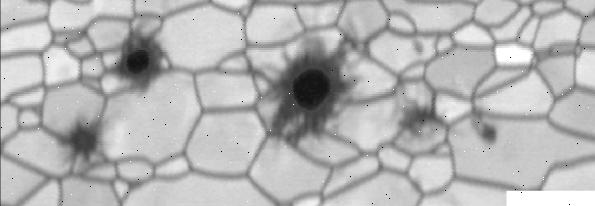good_void: (256, 35, 359, 143), (102, 29, 170, 96), (56, 114, 109, 174), (396, 98, 435, 138), (402, 36, 428, 60), (473, 123, 498, 145)
